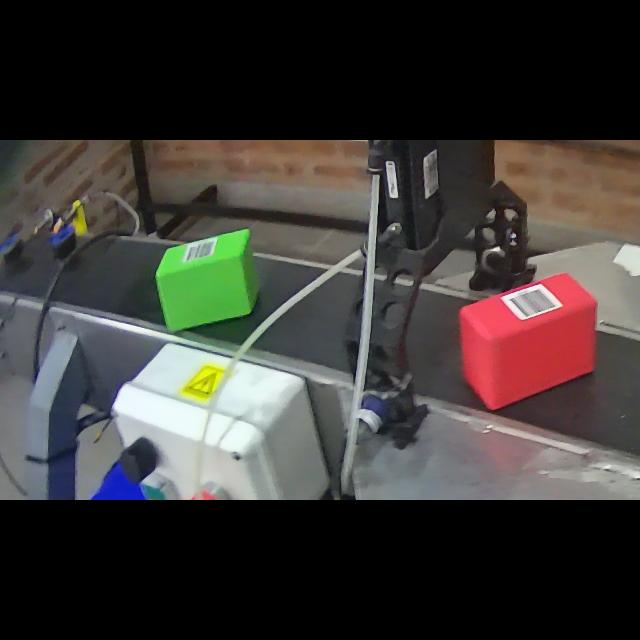greenBox: (153, 224, 261, 336)
redBox: (454, 269, 598, 415)
